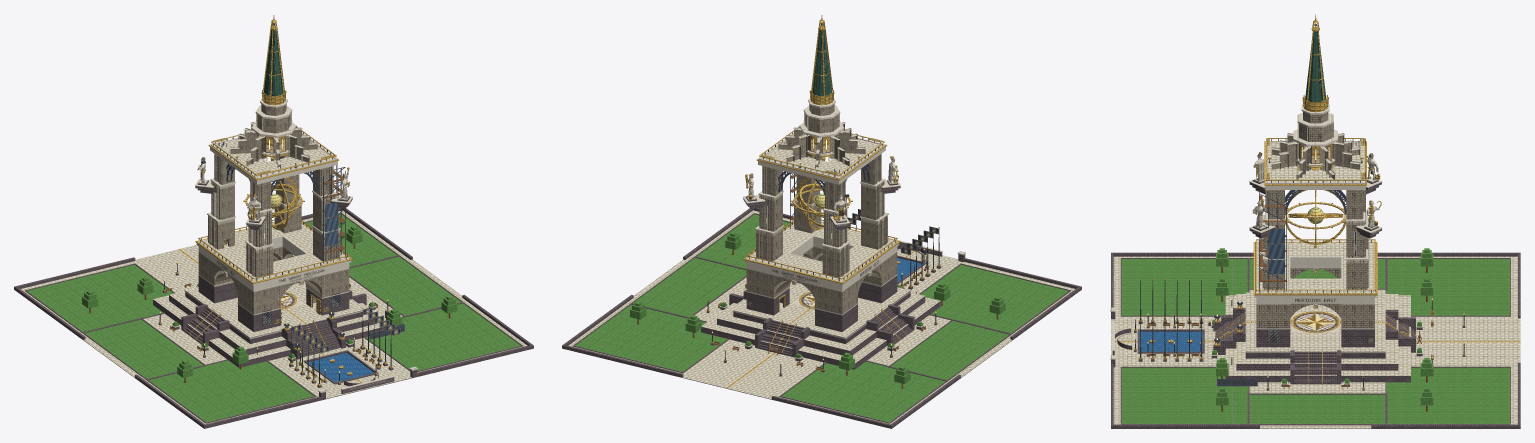
The model's file is great-meridian-1976.glb.
3 views of the same model, side by side, from view 1: azimuth 30°, elevation 25°; view 2: azimuth 150°, elevation 25°; view 3: azimuth 270°, elevation 25° (orthographic). The views are drawn at different scales.
Visible parts, largest first — view 1: lot_ground, structure, floor_plaza, floor_rotunda_plaza, floor_cornice_gallery, floor_observation_deck, floor_stairs_pz, armillary_outer; view 2: lot_ground, structure, floor_plaza, floor_rotunda_plaza, floor_cornice_gallery, floor_observation_deck, floor_stairs_mz, armillary_outer; view 3: lot_ground, structure, floor_plaza, floor_rotunda_plaza, floor_cornice_gallery, floor_observation_deck, floor_stairs_px, armillary_outer, floor_stairs_pz.
Part boxes in pixels (x1,y1,x2,y2): lot_ground: (14,208,533,428); structure: (153,15,385,367); floor_plaza: (20,211,527,424); floor_rotunda_plaza: (185,281,362,337); floor_cornice_gallery: (198,222,349,281); floor_observation_deck: (214,135,334,177); floor_stairs_pz: (290,319,339,355); armillary_outer: (243,156,304,230); lot_ground: (562,208,1081,428); structure: (701,15,940,369); floor_plaza: (568,210,1075,424); floor_rotunda_plaza: (733,281,910,337); floor_cornice_gallery: (746,222,897,281); floor_observation_deck: (761,135,881,177); floor_stairs_mz: (758,320,804,355); armillary_outer: (791,156,852,230); lot_ground: (1110,252,1520,428); structure: (1213,14,1416,384); floor_plaza: (1111,256,1520,428); floor_rotunda_plaza: (1245,292,1385,351); floor_cornice_gallery: (1256,242,1375,293); floor_observation_deck: (1267,142,1364,182); floor_stairs_px: (1294,352,1336,382); armillary_outer: (1285,166,1346,245); floor_stairs_pz: (1215,311,1245,344).
Size of what is drawn, in the model's own units: 120 by 107 by 120.
12 materials, 12 textured.
